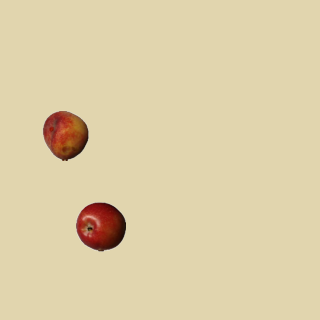Apple Braeburn: (75, 201, 125, 251)
Peach: (40, 110, 90, 160)
